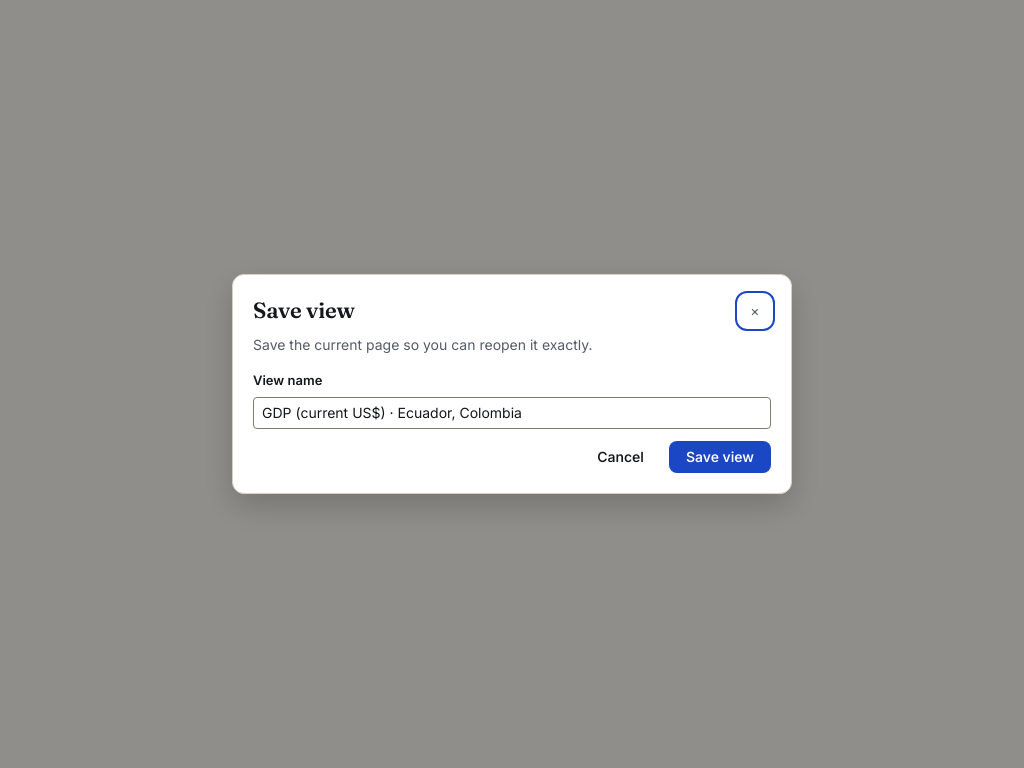
Test: SaveViewDialog › creates a view, announces success and closes
Replace the text in the field labelled "View name" with "  GDP in Ecuador  " at (512, 413), box [253,397,771,429]
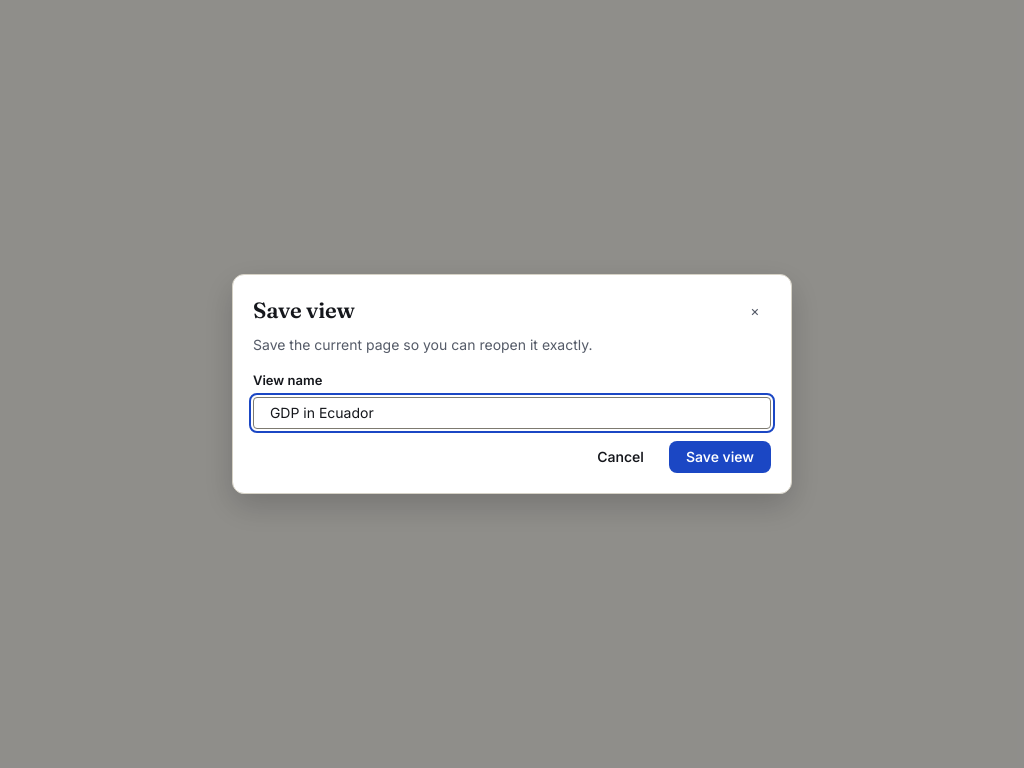
Click the button "Save view" at (720, 457), box [669,441,771,473]
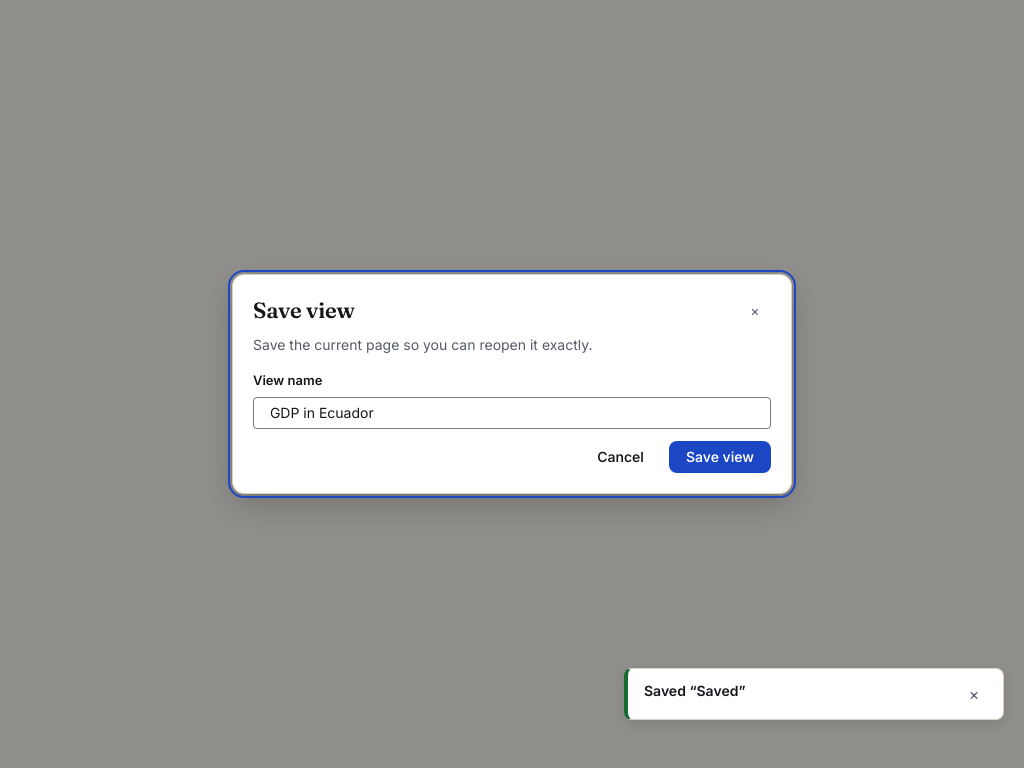
Result: the text "Saved “Saved”" is shown at [644,681,745,701]
